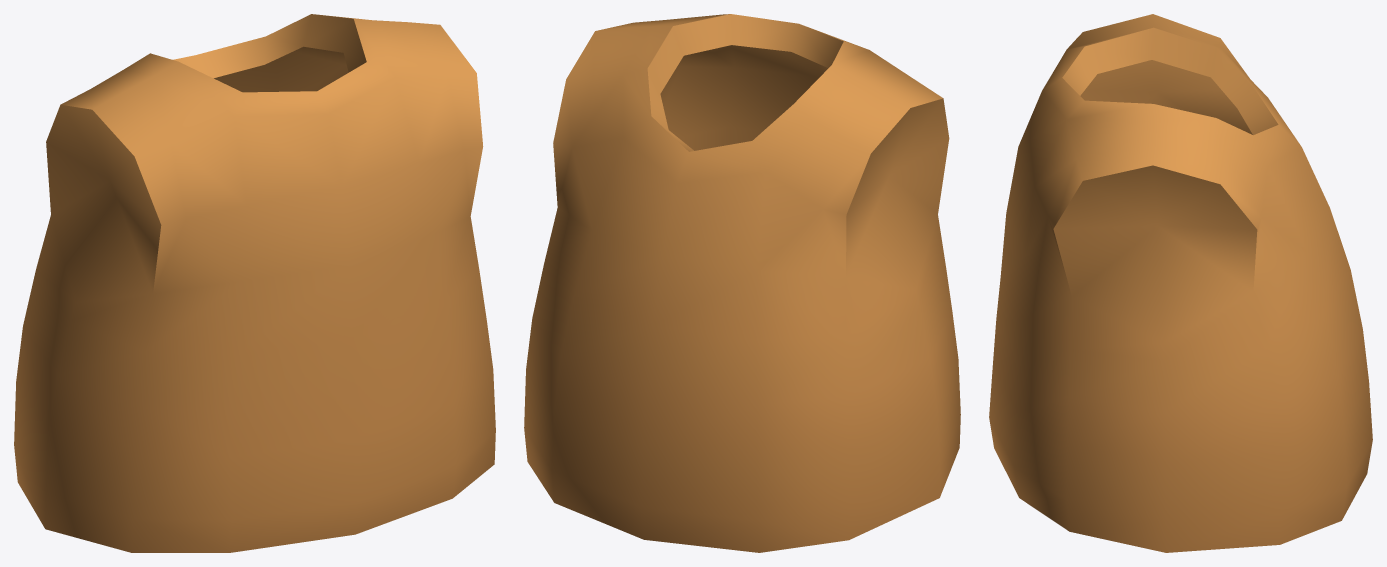
The model's file is Top_33.fbx.
3 renders of one model, left to right at view 1: azimuth 30°, elevation 25°; view 2: azimuth 150°, elevation 25°; view 3: azimuth 270°, elevation 25°, orthographic. The views are drawn at different scales.
Parts seen in each view (by area): view 1: Top_33; view 2: Top_33; view 3: Top_33.
Part boxes in pixels (left/top/right/bottom): Top_33: left=14, top=14, right=495, bottom=552; Top_33: left=524, top=14, right=960, bottom=552; Top_33: left=989, top=14, right=1372, bottom=552.
Size of the model in its own units: 40.41 by 41.36 by 35.24.
